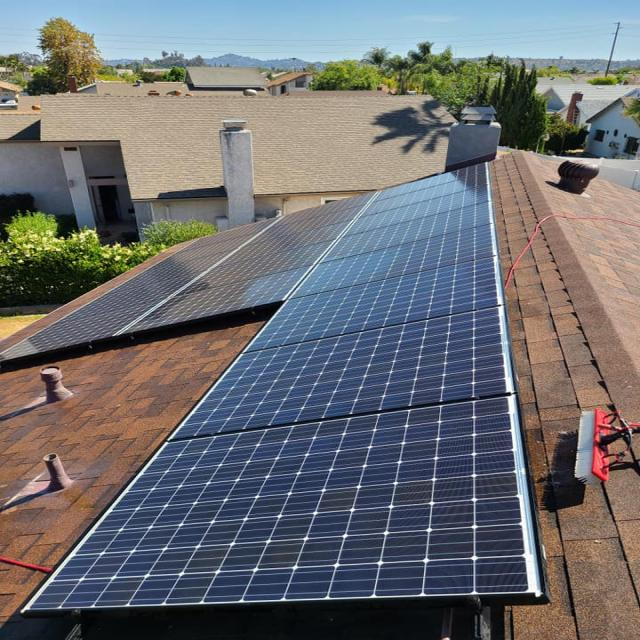clean-solar-panel: (3, 165, 637, 640), (28, 165, 540, 611)
